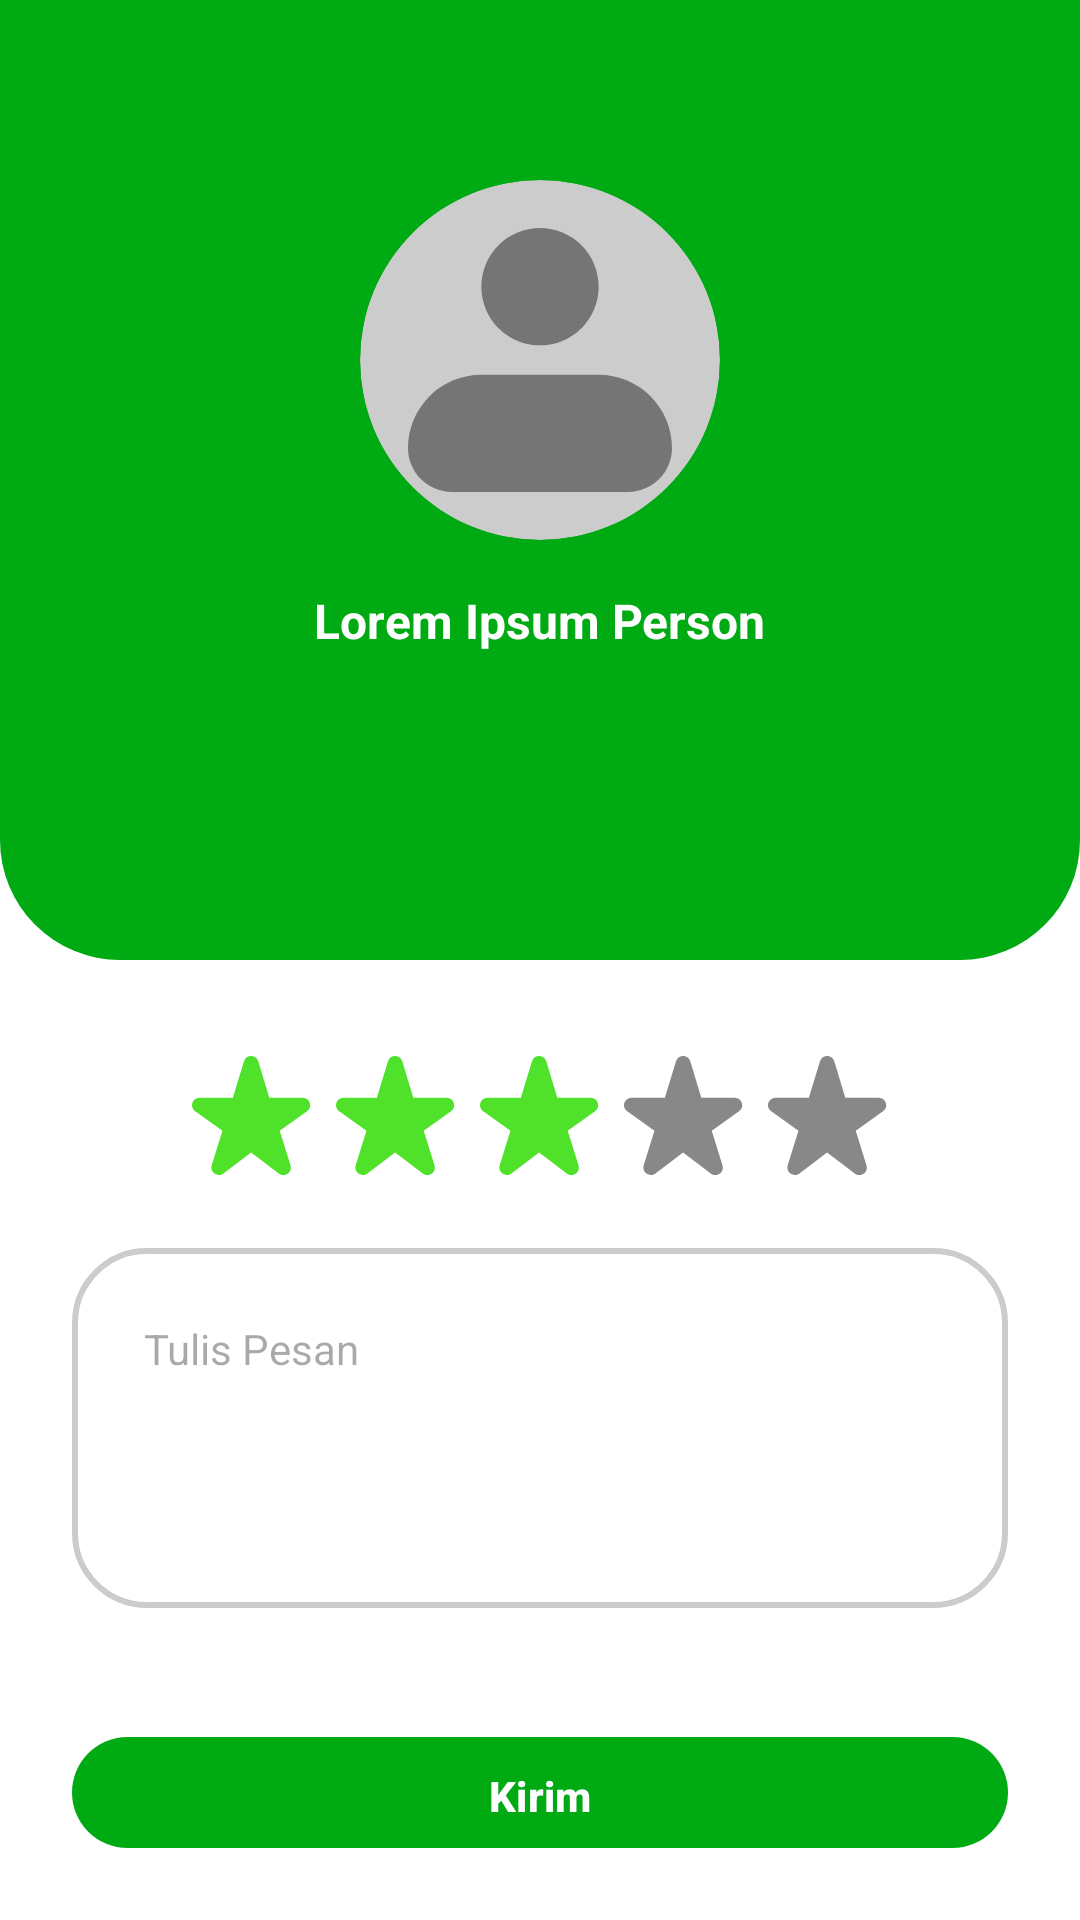

Where icons sit on this 1080px×1920px app screen, as (x1, y1, x2, y2):
bintang: (192, 1056, 311, 1175), (336, 1056, 455, 1175), (480, 1056, 599, 1175), (624, 1056, 742, 1175), (768, 1056, 886, 1175)
Foto Driver: (360, 180, 720, 540)
